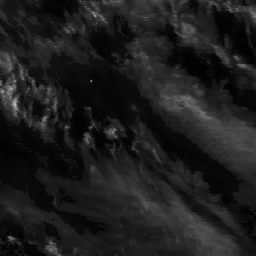Target: (88, 78, 93, 83)
